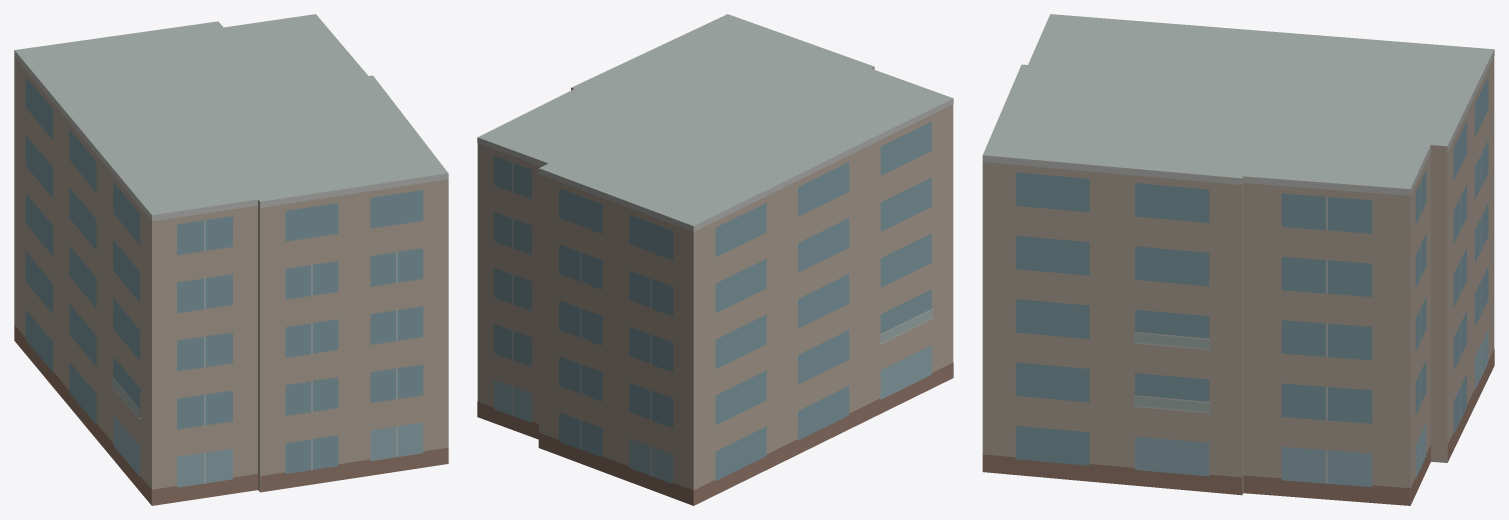
Rendered from survey-upis-32494696.glb.
The picture shows the model from 3 angles, left to right: view 1: azimuth 30°, elevation 25°; view 2: azimuth 150°, elevation 25°; view 3: azimuth 270°, elevation 25°; orthographic projection. The views are drawn at different scales.
Visible parts, largest first — view 1: survey-upis-32494696.tmp; view 2: survey-upis-32494696.tmp; view 3: survey-upis-32494696.tmp.
Boxes of the visible parts, x1=… form: survey-upis-32494696.tmp: x1=14, y1=14, x2=448, y2=505; survey-upis-32494696.tmp: x1=477, y1=14, x2=953, y2=505; survey-upis-32494696.tmp: x1=982, y1=14, x2=1494, y2=505.
Size of the model in its own units: 13.76 by 11.6 by 16.99.
